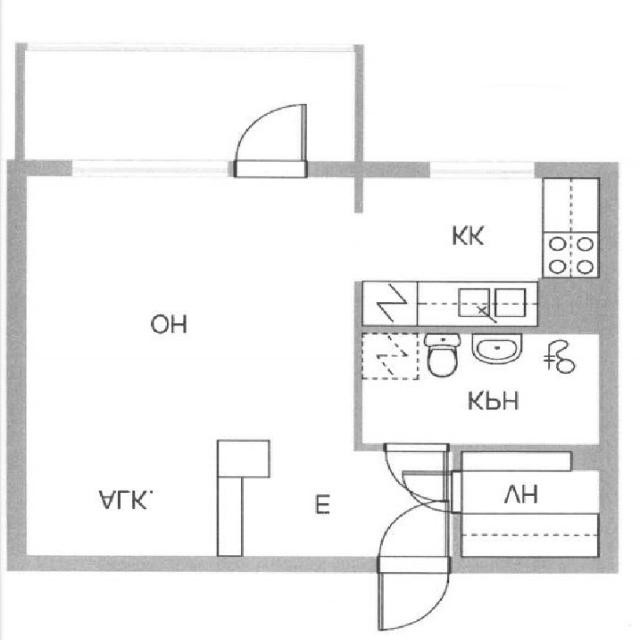door: (228, 97, 312, 177), (370, 565, 454, 636), (378, 443, 462, 514), (366, 505, 448, 576)
window: (57, 152, 238, 186), (421, 156, 539, 184)
zone: (19, 166, 362, 570), (358, 170, 599, 326), (213, 441, 452, 570), (354, 330, 607, 450), (21, 568, 363, 638), (449, 449, 602, 571)
